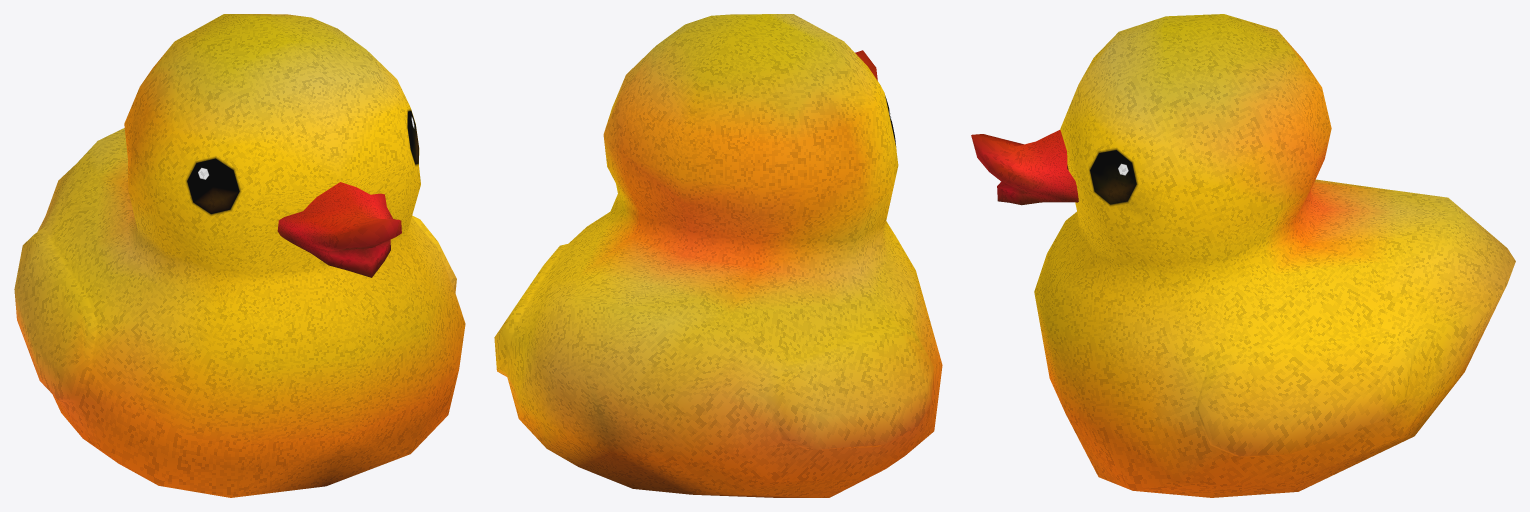
File: ducky.glb
3 renders of one model, left to right at view 1: azimuth 30°, elevation 25°; view 2: azimuth 150°, elevation 25°; view 3: azimuth 270°, elevation 25°, orthographic.
Parts seen in each view (by area): view 1: body, bill; view 2: body; view 3: body, bill.
Part boxes in pixels (bbox=[...]): body: bbox=[14, 14, 465, 497]; bill: bbox=[277, 182, 401, 277]; body: bbox=[494, 14, 942, 497]; body: bbox=[1034, 14, 1515, 497]; bill: bbox=[971, 130, 1078, 205].
Bounding box in the file's own units: 4.89 × 5.06 × 5.95.
1 material, 1 textured.
